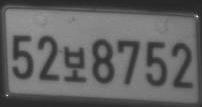2: (170, 41, 193, 88), (37, 35, 60, 81)
5: (12, 34, 34, 79), (145, 41, 167, 86)
7: (116, 39, 140, 84)
8: (91, 39, 115, 83)
보: (63, 45, 87, 82)
